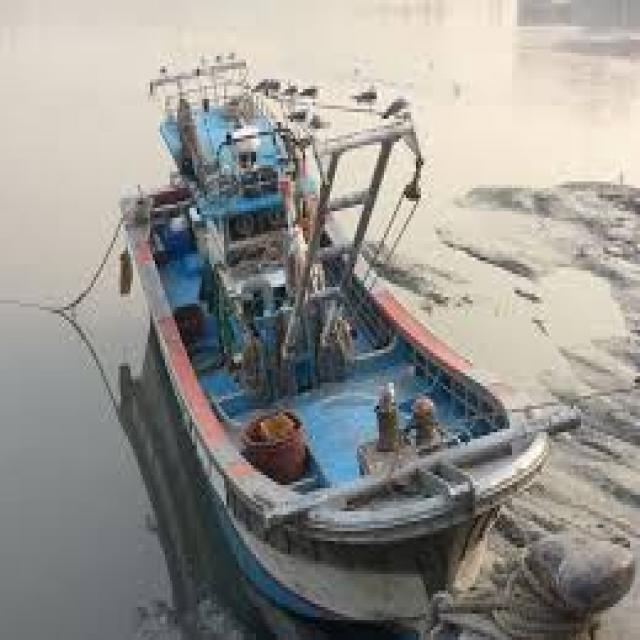Ship: (95, 47, 560, 631)
